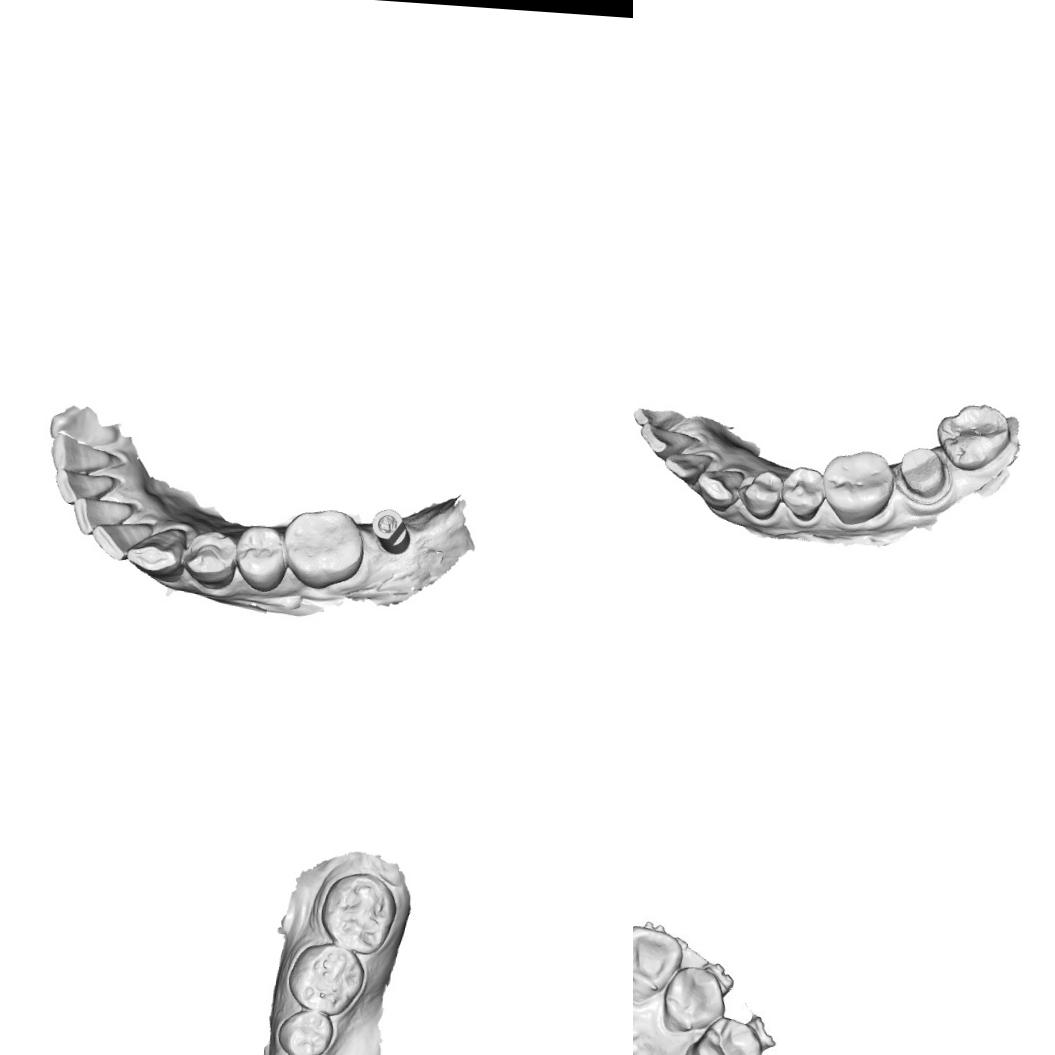canine: (659, 960, 728, 1036), (124, 523, 188, 584), (694, 462, 746, 513)
crown: (894, 443, 953, 505)
implant: (368, 504, 413, 556)
incisor: (633, 929, 676, 996), (48, 432, 116, 474), (90, 517, 152, 562), (52, 468, 115, 508), (635, 422, 699, 460), (71, 497, 130, 538), (662, 448, 716, 482), (633, 405, 682, 428)
molar: (316, 867, 399, 957), (282, 506, 366, 592), (284, 938, 368, 1018), (816, 446, 897, 528), (932, 397, 1014, 475)
premolar: (233, 523, 286, 593), (182, 526, 236, 592), (684, 1016, 765, 1055), (778, 462, 828, 524), (274, 1006, 335, 1055), (735, 466, 788, 522)
